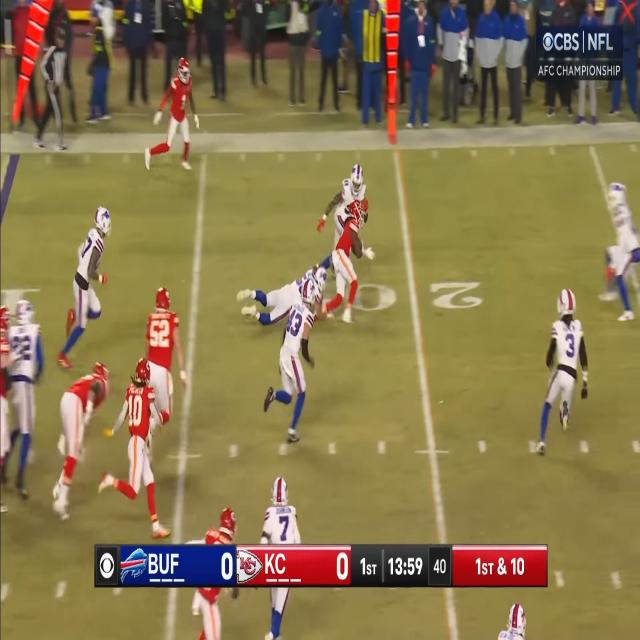Ball: (352, 236, 365, 256)
